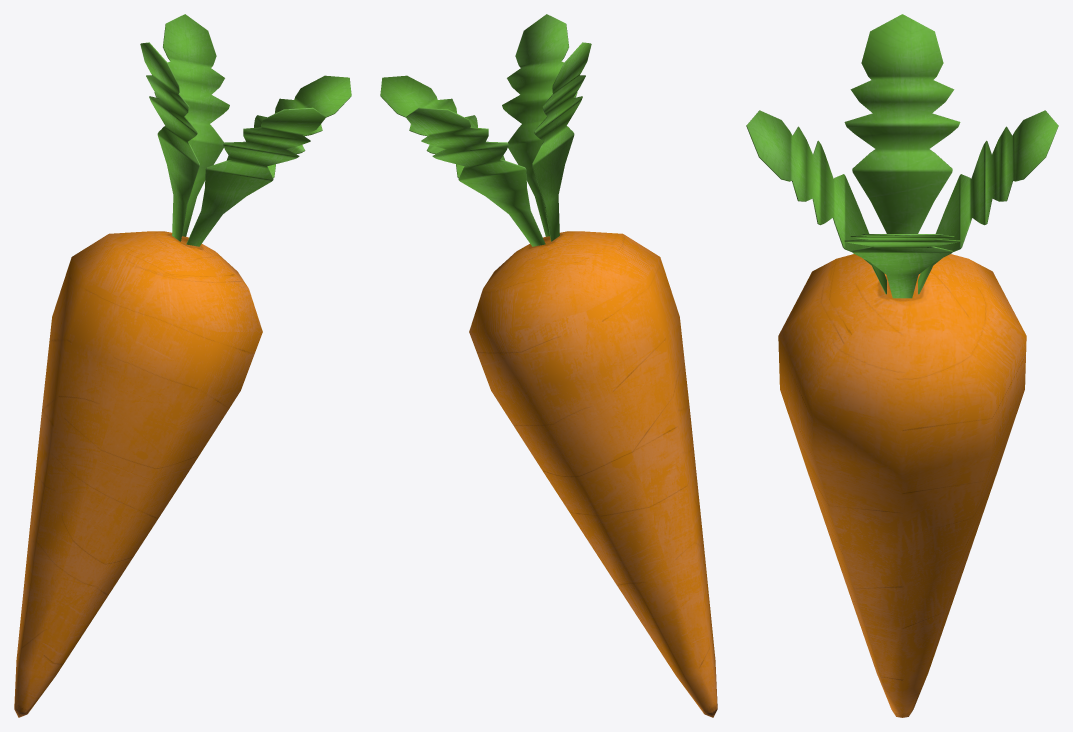
The model's file is carrot.obj.
3 renders of one model, left to right at view 1: azimuth 30°, elevation 25°; view 2: azimuth 150°, elevation 25°; view 3: azimuth 270°, elevation 25°, orthographic. The views are drawn at different scales.
Visible parts, largest first — view 1: carrot_final_Cube.005; view 2: carrot_final_Cube.005; view 3: carrot_final_Cube.005.
Boxes of the visible parts, box(x1,y1,x2,y2) form: carrot_final_Cube.005: box(14, 14, 351, 717); carrot_final_Cube.005: box(380, 14, 717, 717); carrot_final_Cube.005: box(746, 14, 1058, 717).
Size of the model in its own units: 0.2704 by 0.4964 by 0.18.
1 material, 1 textured.
